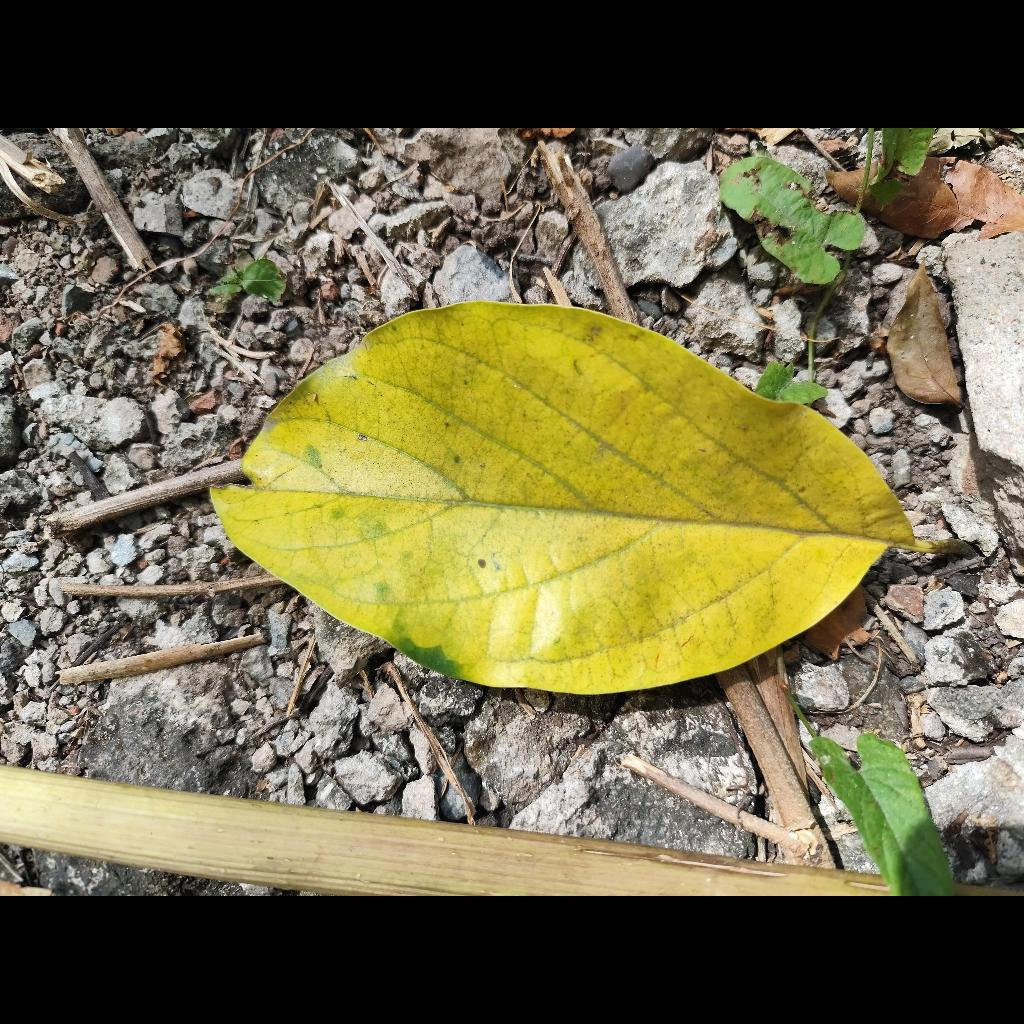deficiencia_nutricional: (211, 302, 946, 693)
